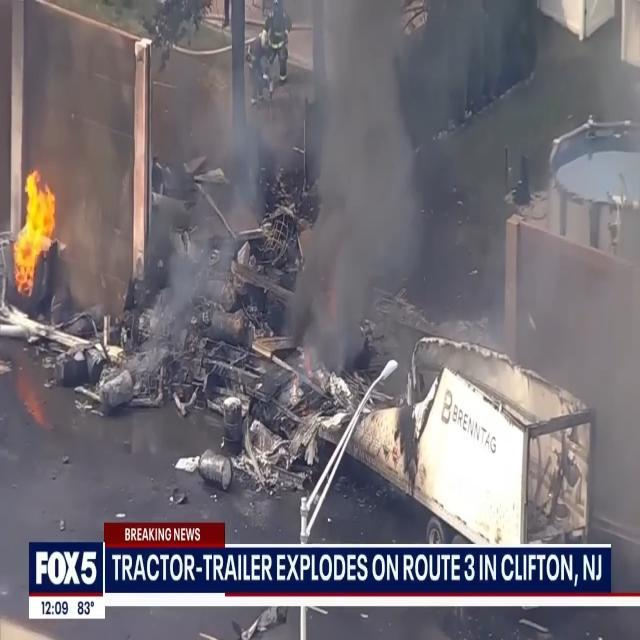fire: (12, 174, 58, 298)
